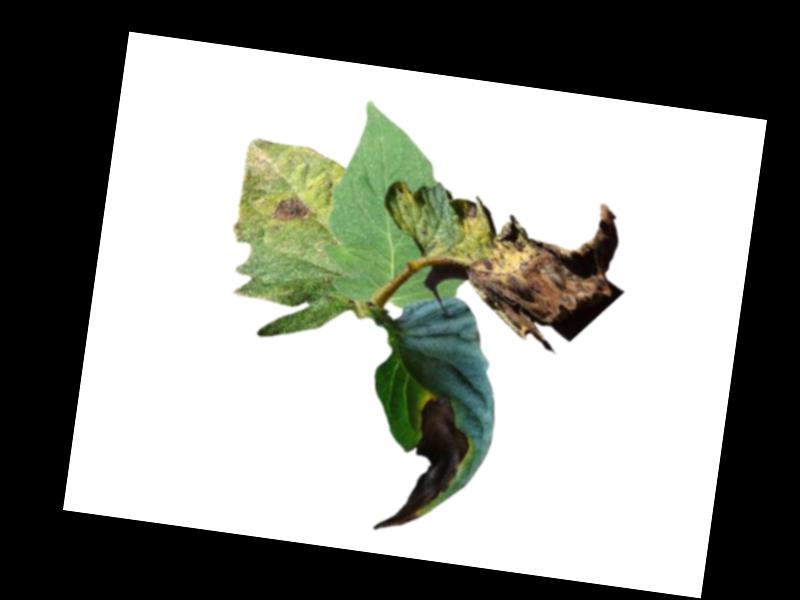Early_blight: (431, 180, 625, 351), (371, 385, 480, 540), (271, 194, 313, 224)
